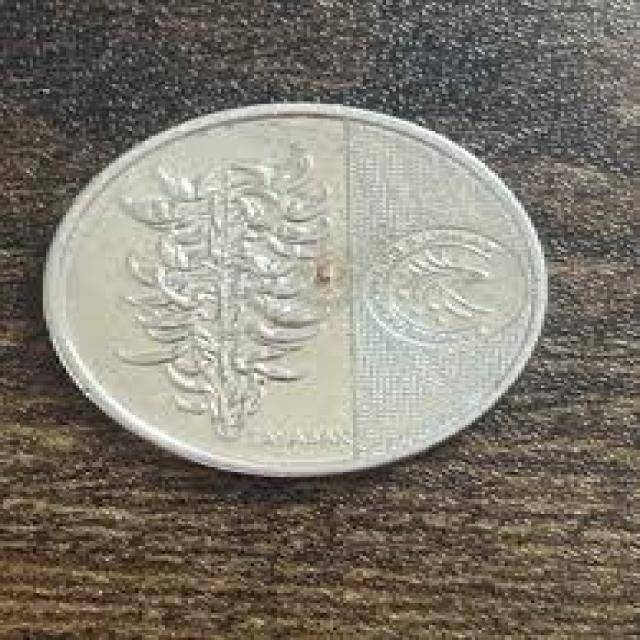5 peso: (40, 96, 555, 489)
